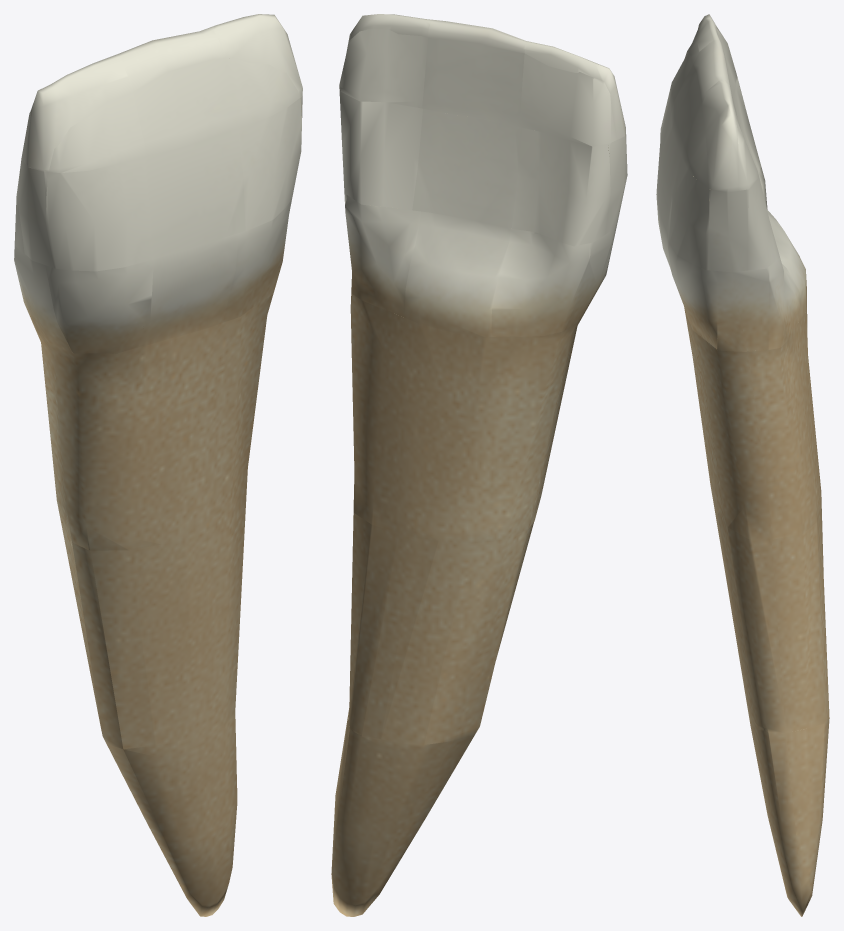
The model's file is Left_Lower_Lateral_Incisor.glb.
The picture shows the model from 3 angles, left to right: view 1: azimuth 30°, elevation 25°; view 2: azimuth 150°, elevation 25°; view 3: azimuth 270°, elevation 25°; orthographic projection. The views are drawn at different scales.
Visible parts, largest first — view 1: Human_Teeth_Lower_Lateral_Incisor; view 2: Human_Teeth_Lower_Lateral_Incisor; view 3: Human_Teeth_Lower_Lateral_Incisor.
Boxes of the visible parts, box(x1,y1,x2,y2) form: Human_Teeth_Lower_Lateral_Incisor: box(14, 14, 302, 916); Human_Teeth_Lower_Lateral_Incisor: box(331, 14, 627, 916); Human_Teeth_Lower_Lateral_Incisor: box(656, 14, 829, 916).
Size of the model in its own units: 1.04 by 3.26 by 0.6233.
30 materials, 30 textured.
